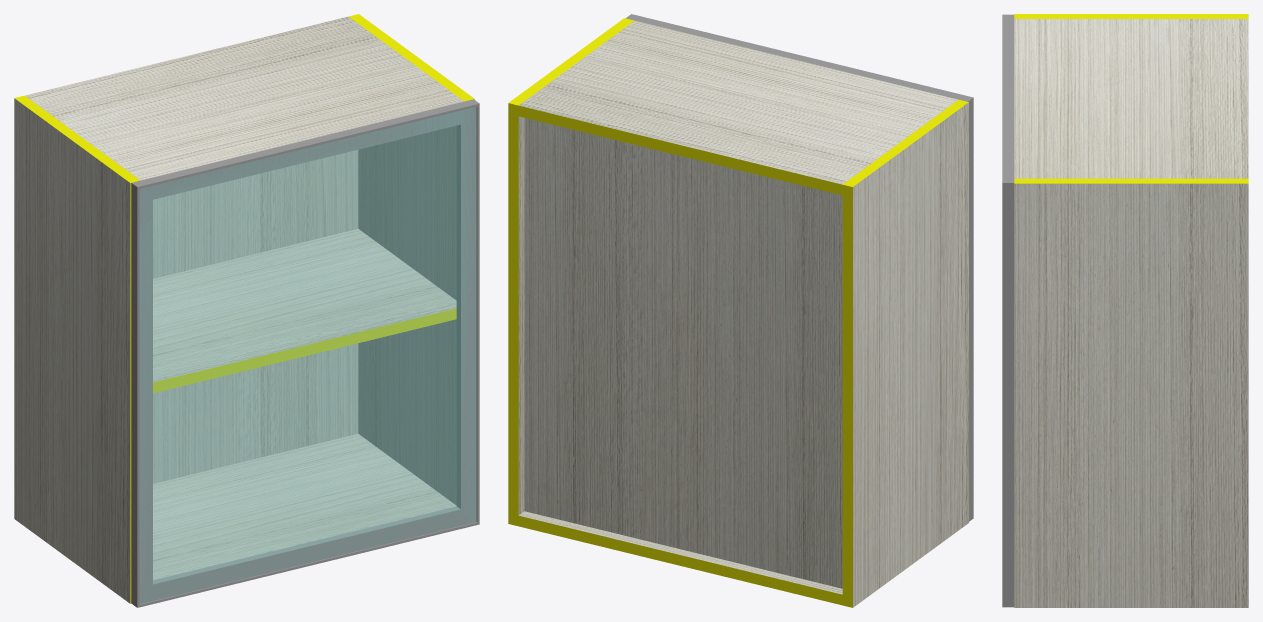
File: ALACENA.obj
The picture shows the model from 3 angles, left to right: view 1: azimuth 30°, elevation 25°; view 2: azimuth 150°, elevation 25°; view 3: azimuth 270°, elevation 25°; orthographic projection.
Visible parts, largest first — view 1: Mesh63 Panel_11_1 PanelZX_33_1 MPCD_BCajon_19_1 PUERTA_DE_VIDRIO, Mesh1 LATERAL_IZQUIERDO_1_1 PanelZY_3_1 Estructura_10_1 ALACENA_, Mesh4 TECHO_1_1 PanelXY_6_1 Estructura_10_1 ALACENA_1_1 Model, Mesh5 RESPALDO_9_1 PanelZX_15_1 Estructura_10_1 ALACENA_1_1 Mode, Mesh6 Entrepa_o PanelXY_4_1 DIVISORES1 Estructura_10_1 ALACENA_1, Mesh2 LATERAL_DERECHA_9_1 PanelZY_4_1 Estructura_10_1 ALACENA_1_, Mesh3 BASE_5_1 PanelXY_5_1 Estructura_10_1 ALACENA_1_1 Model, Mesh20 PPost1 P3PU_3_1 Marco_Aluminio_PU_1_1 MPCD_BCajon_19_1 PU, Mesh7 PPost P1PU_3_1 Marco_Aluminio_PU_1_1 MPCD_BCajon_19_1 PUER, Mesh46 PPost3 P4PU_3_1 Marco_Aluminio_PU_1_1 MPCD_BCajon_19_1 PU, Mesh33 PPost2 P2PU_2_1 Marco_Aluminio_PU_1_1 MPCD_BCajon_19_1 PU, Mesh48 PInf3 P4PU_3_1 Marco_Aluminio_PU_1_1 MPCD_BCajon_19_1 PUE (+5 smaller); view 2: Mesh5 RESPALDO_9_1 PanelZX_15_1 Estructura_10_1 ALACENA_1_1 Mode, Mesh1 LATERAL_IZQUIERDO_1_1 PanelZY_3_1 Estructura_10_1 ALACENA_, Mesh4 TECHO_1_1 PanelXY_6_1 Estructura_10_1 ALACENA_1_1 Model, Mesh2 LATERAL_DERECHA_9_1 PanelZY_4_1 Estructura_10_1 ALACENA_1_, Mesh3 BASE_5_1 PanelXY_5_1 Estructura_10_1 ALACENA_1_1 Model, Mesh35 PInf2 P2PU_2_1 Marco_Aluminio_PU_1_1 MPCD_BCajon_19_1 PUE, Mesh48 PInf3 P4PU_3_1 Marco_Aluminio_PU_1_1 MPCD_BCajon_19_1 PUE; view 3: Mesh2 LATERAL_DERECHA_9_1 PanelZY_4_1 Estructura_10_1 ALACENA_1_, Mesh4 TECHO_1_1 PanelXY_6_1 Estructura_10_1 ALACENA_1_1 Model, Mesh22 PInf1 P3PU_3_1 Marco_Aluminio_PU_1_1 MPCD_BCajon_19_1 PUE, Mesh35 PInf2 P2PU_2_1 Marco_Aluminio_PU_1_1 MPCD_BCajon_19_1 PUE, Mesh1 LATERAL_IZQUIERDO_1_1 PanelZY_3_1 Estructura_10_1 ALACENA_, Mesh21 PFront1 P3PU_3_1 Marco_Aluminio_PU_1_1 MPCD_BCajon_19_1 P.
Part boxes in pixels (x1=…): Mesh63 Panel_11_1 PanelZX_33_1 MPCD_BCajon_19_1 PUERTA_DE_VIDRIO: x1=140, y1=107, x2=476, y2=603; Mesh1 LATERAL_IZQUIERDO_1_1 PanelZY_3_1 Estructura_10_1 ALACENA_: x1=14, y1=95, x2=140, y2=603; Mesh4 TECHO_1_1 PanelXY_6_1 Estructura_10_1 ALACENA_1_1 Model: x1=25, y1=16, x2=464, y2=180; Mesh5 RESPALDO_9_1 PanelZX_15_1 Estructura_10_1 ALACENA_1_1 Mode: x1=153, y1=150, x2=358, y2=483; Mesh6 Entrepa_o PanelXY_4_1 DIVISORES1 Estructura_10_1 ALACENA_1: x1=153, y1=229, x2=456, y2=392; Mesh2 LATERAL_DERECHA_9_1 PanelZY_4_1 Estructura_10_1 ALACENA_1_: x1=349, y1=14, x2=474, y2=505; Mesh3 BASE_5_1 PanelXY_5_1 Estructura_10_1 ALACENA_1_1 Model: x1=153, y1=434, x2=456, y2=579; Mesh20 PPost1 P3PU_3_1 Marco_Aluminio_PU_1_1 MPCD_BCajon_19_1 PU: x1=456, y1=121, x2=476, y2=509; Mesh7 PPost P1PU_3_1 Marco_Aluminio_PU_1_1 MPCD_BCajon_19_1 PUER: x1=153, y1=506, x2=460, y2=600; Mesh46 PPost3 P4PU_3_1 Marco_Aluminio_PU_1_1 MPCD_BCajon_19_1 PU: x1=139, y1=200, x2=152, y2=587; Mesh33 PPost2 P2PU_2_1 Marco_Aluminio_PU_1_1 MPCD_BCajon_19_1 PU: x1=153, y1=110, x2=460, y2=199; Mesh48 PInf3 P4PU_3_1 Marco_Aluminio_PU_1_1 MPCD_BCajon_19_1 PUE: x1=131, y1=201, x2=136, y2=588; Mesh5 RESPALDO_9_1 PanelZX_15_1 Estructura_10_1 ALACENA_1_1 Mode: x1=524, y1=118, x2=842, y2=588; Mesh1 LATERAL_IZQUIERDO_1_1 PanelZY_3_1 Estructura_10_1 ALACENA_: x1=842, y1=99, x2=968, y2=607; Mesh4 TECHO_1_1 PanelXY_6_1 Estructura_10_1 ALACENA_1_1 Model: x1=518, y1=20, x2=957, y2=195; Mesh2 LATERAL_DERECHA_9_1 PanelZY_4_1 Estructura_10_1 ALACENA_1_: x1=508, y1=18, x2=634, y2=526; Mesh3 BASE_5_1 PanelXY_5_1 Estructura_10_1 ALACENA_1_1 Model: x1=518, y1=511, x2=842, y2=605; Mesh35 PInf2 P2PU_2_1 Marco_Aluminio_PU_1_1 MPCD_BCajon_19_1 PUE: x1=643, y1=18, x2=955, y2=97; Mesh48 PInf3 P4PU_3_1 Marco_Aluminio_PU_1_1 MPCD_BCajon_19_1 PUE: x1=969, y1=116, x2=972, y2=503; Mesh2 LATERAL_DERECHA_9_1 PanelZY_4_1 Estructura_10_1 ALACENA_1_: x1=1014, y1=178, x2=1248, y2=607; Mesh4 TECHO_1_1 PanelXY_6_1 Estructura_10_1 ALACENA_1_1 Model: x1=1014, y1=19, x2=1248, y2=178; Mesh22 PInf1 P3PU_3_1 Marco_Aluminio_PU_1_1 MPCD_BCajon_19_1 PUE: x1=1003, y1=201, x2=1014, y2=589; Mesh35 PInf2 P2PU_2_1 Marco_Aluminio_PU_1_1 MPCD_BCajon_19_1 PUE: x1=1003, y1=23, x2=1014, y2=174; Mesh1 LATERAL_IZQUIERDO_1_1 PanelZY_3_1 Estructura_10_1 ALACENA_: x1=1014, y1=14, x2=1248, y2=18; Mesh21 PFront1 P3PU_3_1 Marco_Aluminio_PU_1_1 MPCD_BCajon_19_1 P: x1=1002, y1=201, x2=1003, y2=589.
Bounding box in the file's own units: 600 × 700 × 368.
5 materials, 1 textured.
